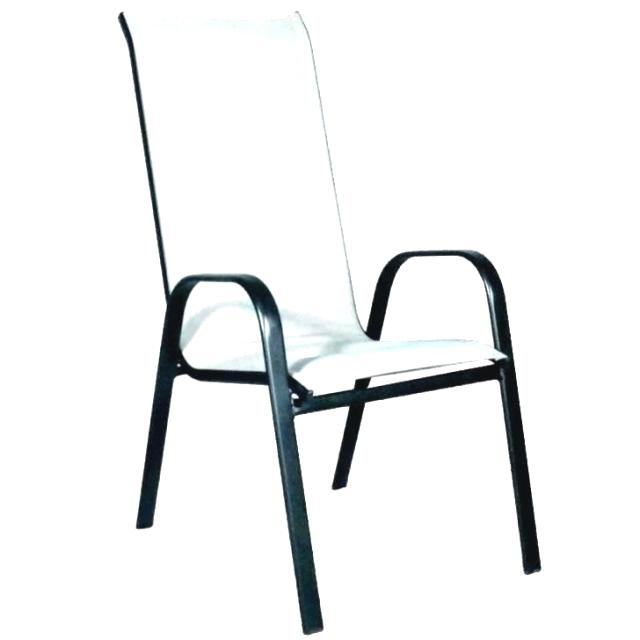Chair: (112, 7, 548, 640)
